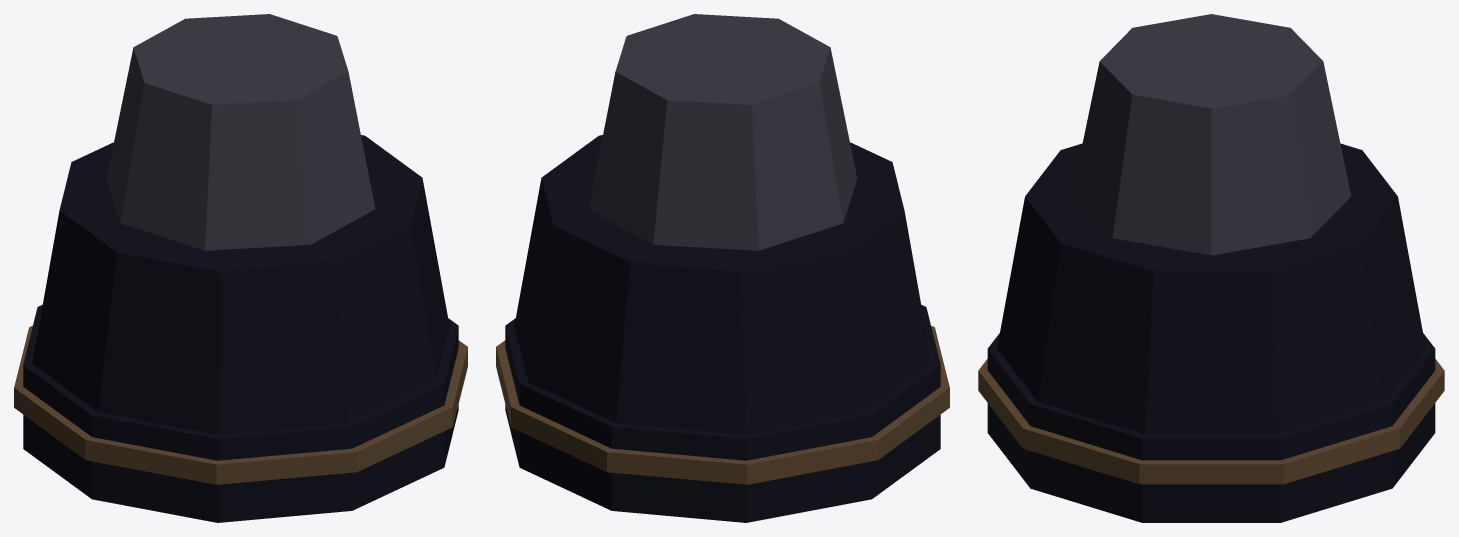
Rendered from prop_tanggeon.glb.
The picture shows the model from 3 angles, left to right: view 1: azimuth 30°, elevation 25°; view 2: azimuth 150°, elevation 25°; view 3: azimuth 270°, elevation 25°; orthographic projection.
Visible parts, largest first — view 1: prop_tanggeon; view 2: prop_tanggeon; view 3: prop_tanggeon.
Boxes of the visible parts, x1=… form: prop_tanggeon: x1=14, y1=14, x2=467, y2=522; prop_tanggeon: x1=496, y1=14, x2=949, y2=522; prop_tanggeon: x1=978, y1=14, x2=1444, y2=522.
Bounding box in the file's own units: 0.2378 × 0.22 × 0.25.
